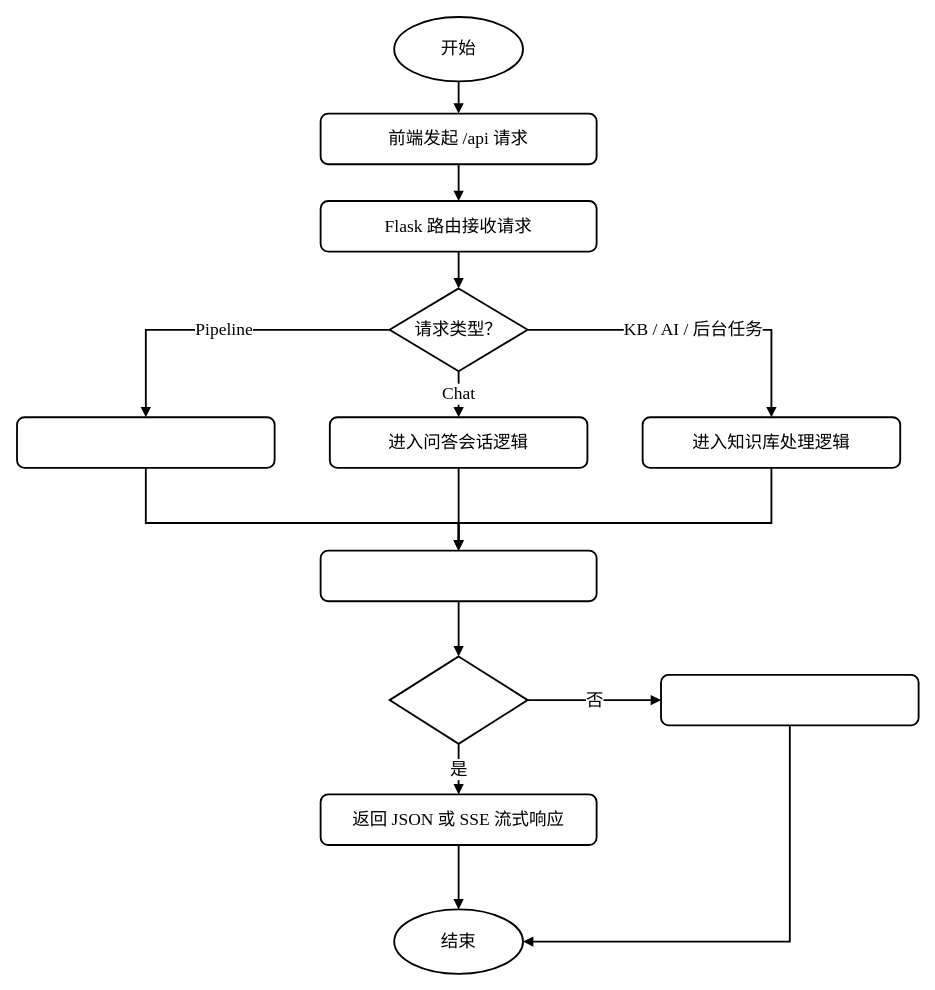
This 935x990 diagram has some shape labels left out. Each missing label, with the centre of its shape:
"处理成功？" belongs at (458,699).
"统一异常处理并返回错误信息" belongs at (789,699).
"调用对应业务管理器" belongs at (458,575).
"进入 Pipeline 管理逻辑" belongs at (145,442).
